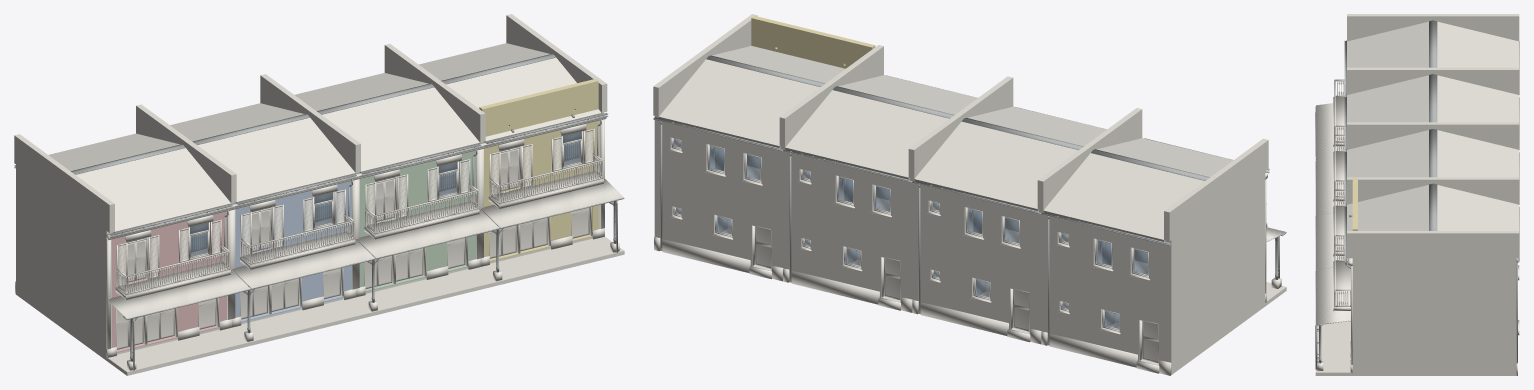
Rendered from fond_h14.glb.
The picture shows the model from 3 angles, left to right: view 1: azimuth 30°, elevation 25°; view 2: azimuth 150°, elevation 25°; view 3: azimuth 270°, elevation 25°; orthographic projection. The views are drawn at different scales.
Visible parts, largest first — view 1: Roof_U1, EndWall_W, Veranda_Slab, Arch_corrugated_rust, Roof_U2, Arch_plaster_cream_warm, Arch_painted_timber_warmgrey, Wall_Front_U4, Arch_shutter_paint, Arch_concrete_cast, Wall_Front_U3, Wall_Front_U1 (+15 smaller); view 2: Roof_U1, EndWall_W, Wall_Back_U3, Wall_Back_U2, Wall_Back_U4, Wall_Back_U1, Roof_U2, Arch_mixed_fieldstone, Arch_glass, Arch_white_peeling_timber, Wall_Front_U4, FireWall_2 (+14 smaller); view 3: EndWall_E, Roof_U1, Roof_U2, Arch_corrugated_rust, FireWall_1, FireWall_2, EndWall_W, FireWall_3, Arch_concrete_cast, Arch_galvanized_steel, Veranda_Slab, Arch_painted_timber_warmgrey (+5 smaller).
Boxes of the visible parts, x1,y1,x2,y2 form: Roof_U1: (49, 43, 601, 232); EndWall_W: (14, 134, 114, 354); Veranda_Slab: (106, 236, 624, 375); Arch_corrugated_rust: (107, 178, 623, 318); Roof_U2: (170, 103, 355, 203); Arch_plaster_cream_warm: (106, 113, 606, 349); Arch_painted_timber_warmgrey: (107, 142, 603, 315); Wall_Front_U4: (479, 79, 598, 261); Arch_shutter_paint: (116, 128, 594, 286); Arch_concrete_cast: (115, 171, 619, 370); Wall_Front_U3: (358, 150, 476, 291); Wall_Front_U1: (112, 211, 227, 352); Roof_U1: (659, 46, 1232, 241); EndWall_W: (1164, 138, 1268, 368); Wall_Back_U3: (786, 152, 910, 302); Wall_Back_U2: (915, 184, 1039, 333); Wall_Back_U4: (660, 122, 780, 270); Wall_Back_U1: (1045, 215, 1165, 365); Roof_U2: (914, 106, 1106, 210); Arch_mixed_fieldstone: (654, 237, 1266, 375); Arch_glass: (674, 139, 1147, 328); Arch_white_peeling_timber: (671, 138, 1158, 364); Wall_Front_U4: (751, 15, 875, 68); FireWall_2: (908, 76, 1013, 300); EndWall_E: (1347, 231, 1519, 370); Roof_U1: (1347, 21, 1519, 230); Roof_U2: (1347, 75, 1519, 122); Arch_corrugated_rust: (1316, 103, 1350, 324); FireWall_1: (1347, 67, 1519, 94); FireWall_2: (1347, 122, 1519, 149); EndWall_W: (1347, 14, 1519, 41); FireWall_3: (1347, 177, 1519, 204); Arch_concrete_cast: (1317, 97, 1519, 370); Arch_galvanized_steel: (1429, 20, 1437, 230); Veranda_Slab: (1315, 321, 1352, 375); Arch_painted_timber_warmgrey: (1323, 79, 1350, 324).
Size of the model in its own units: 28 by 8.6 by 11.02.
